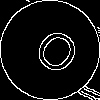O: (25, 25, 84, 86)
